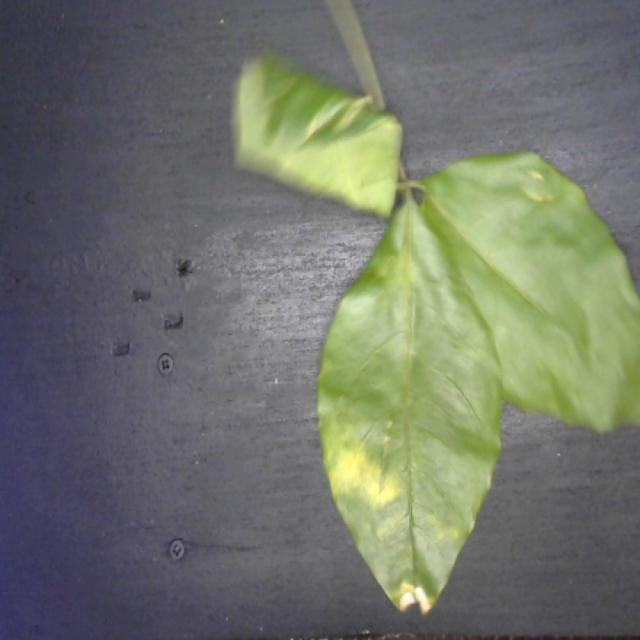biodegradable: (225, 43, 640, 618)
